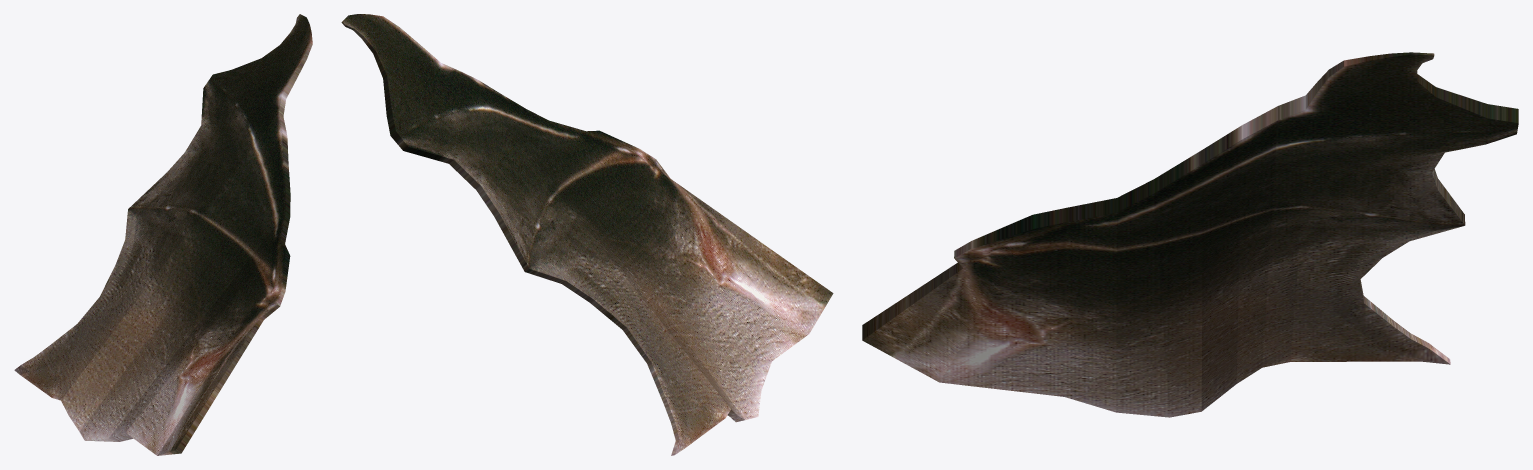
Rendered from bat_leftWing.obj.
The picture shows the model from 3 angles, left to right: view 1: azimuth 30°, elevation 25°; view 2: azimuth 150°, elevation 25°; view 3: azimuth 270°, elevation 25°; orthographic projection. The views are drawn at different scales.
Visible parts, largest first — view 1: ps1_bat_leftWing.001; view 2: ps1_bat_leftWing.001; view 3: ps1_bat_leftWing.001.
Boxes of the visible parts, x1,y1,x2,y2 form: ps1_bat_leftWing.001: (14, 14, 312, 455); ps1_bat_leftWing.001: (341, 14, 833, 455); ps1_bat_leftWing.001: (862, 52, 1518, 417).
Bounding box in the file's own units: 0.3424 × 0.3601 × 0.3413.
1 material, 1 textured.
